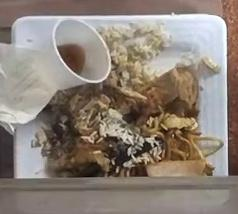rice_mix: (86, 23, 204, 173)
vegetables: (43, 115, 115, 177)
